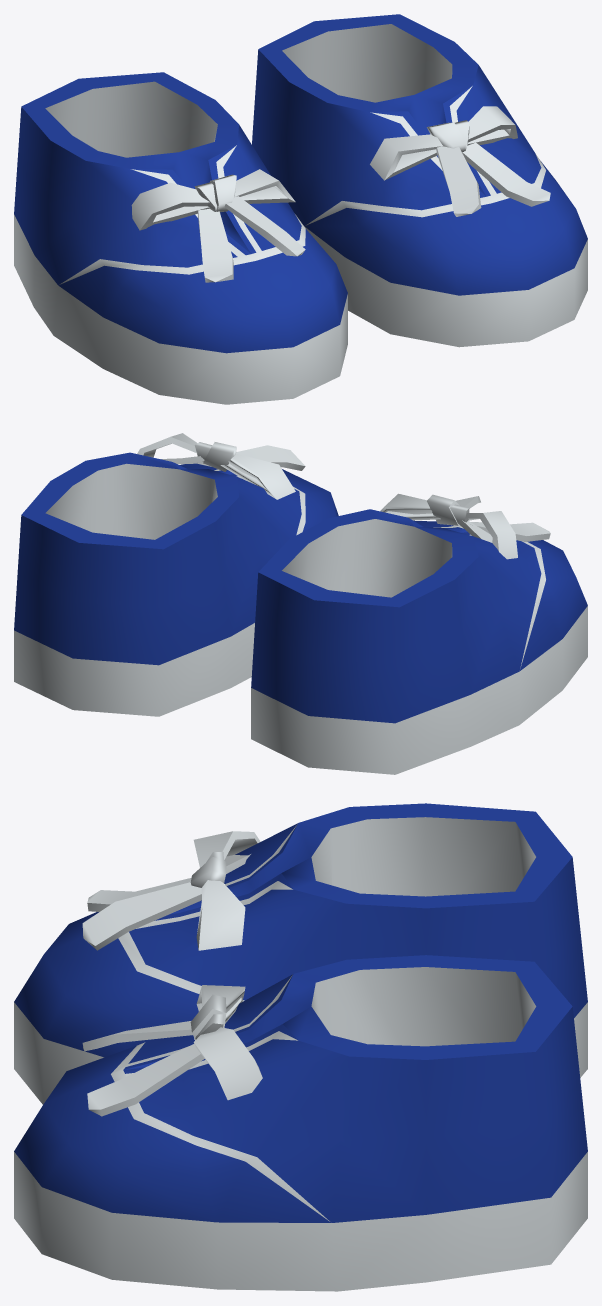
The model's file is Shoes_1.fbx.
3 views of the same model, one above another, from view 1: azimuth 30°, elevation 25°; view 2: azimuth 150°, elevation 25°; view 3: azimuth 270°, elevation 25° (orthographic). The views are drawn at different scales.
Visible parts, largest first — view 1: Shoes_1; view 2: Shoes_1; view 3: Shoes_1.
Boxes of the visible parts, box(x1,y1,x2,y2) form: Shoes_1: box(14, 14, 587, 404); Shoes_1: box(14, 433, 587, 774); Shoes_1: box(14, 803, 587, 1291).
Size of the model in its own units: 39.94 by 13.43 by 32.76.
